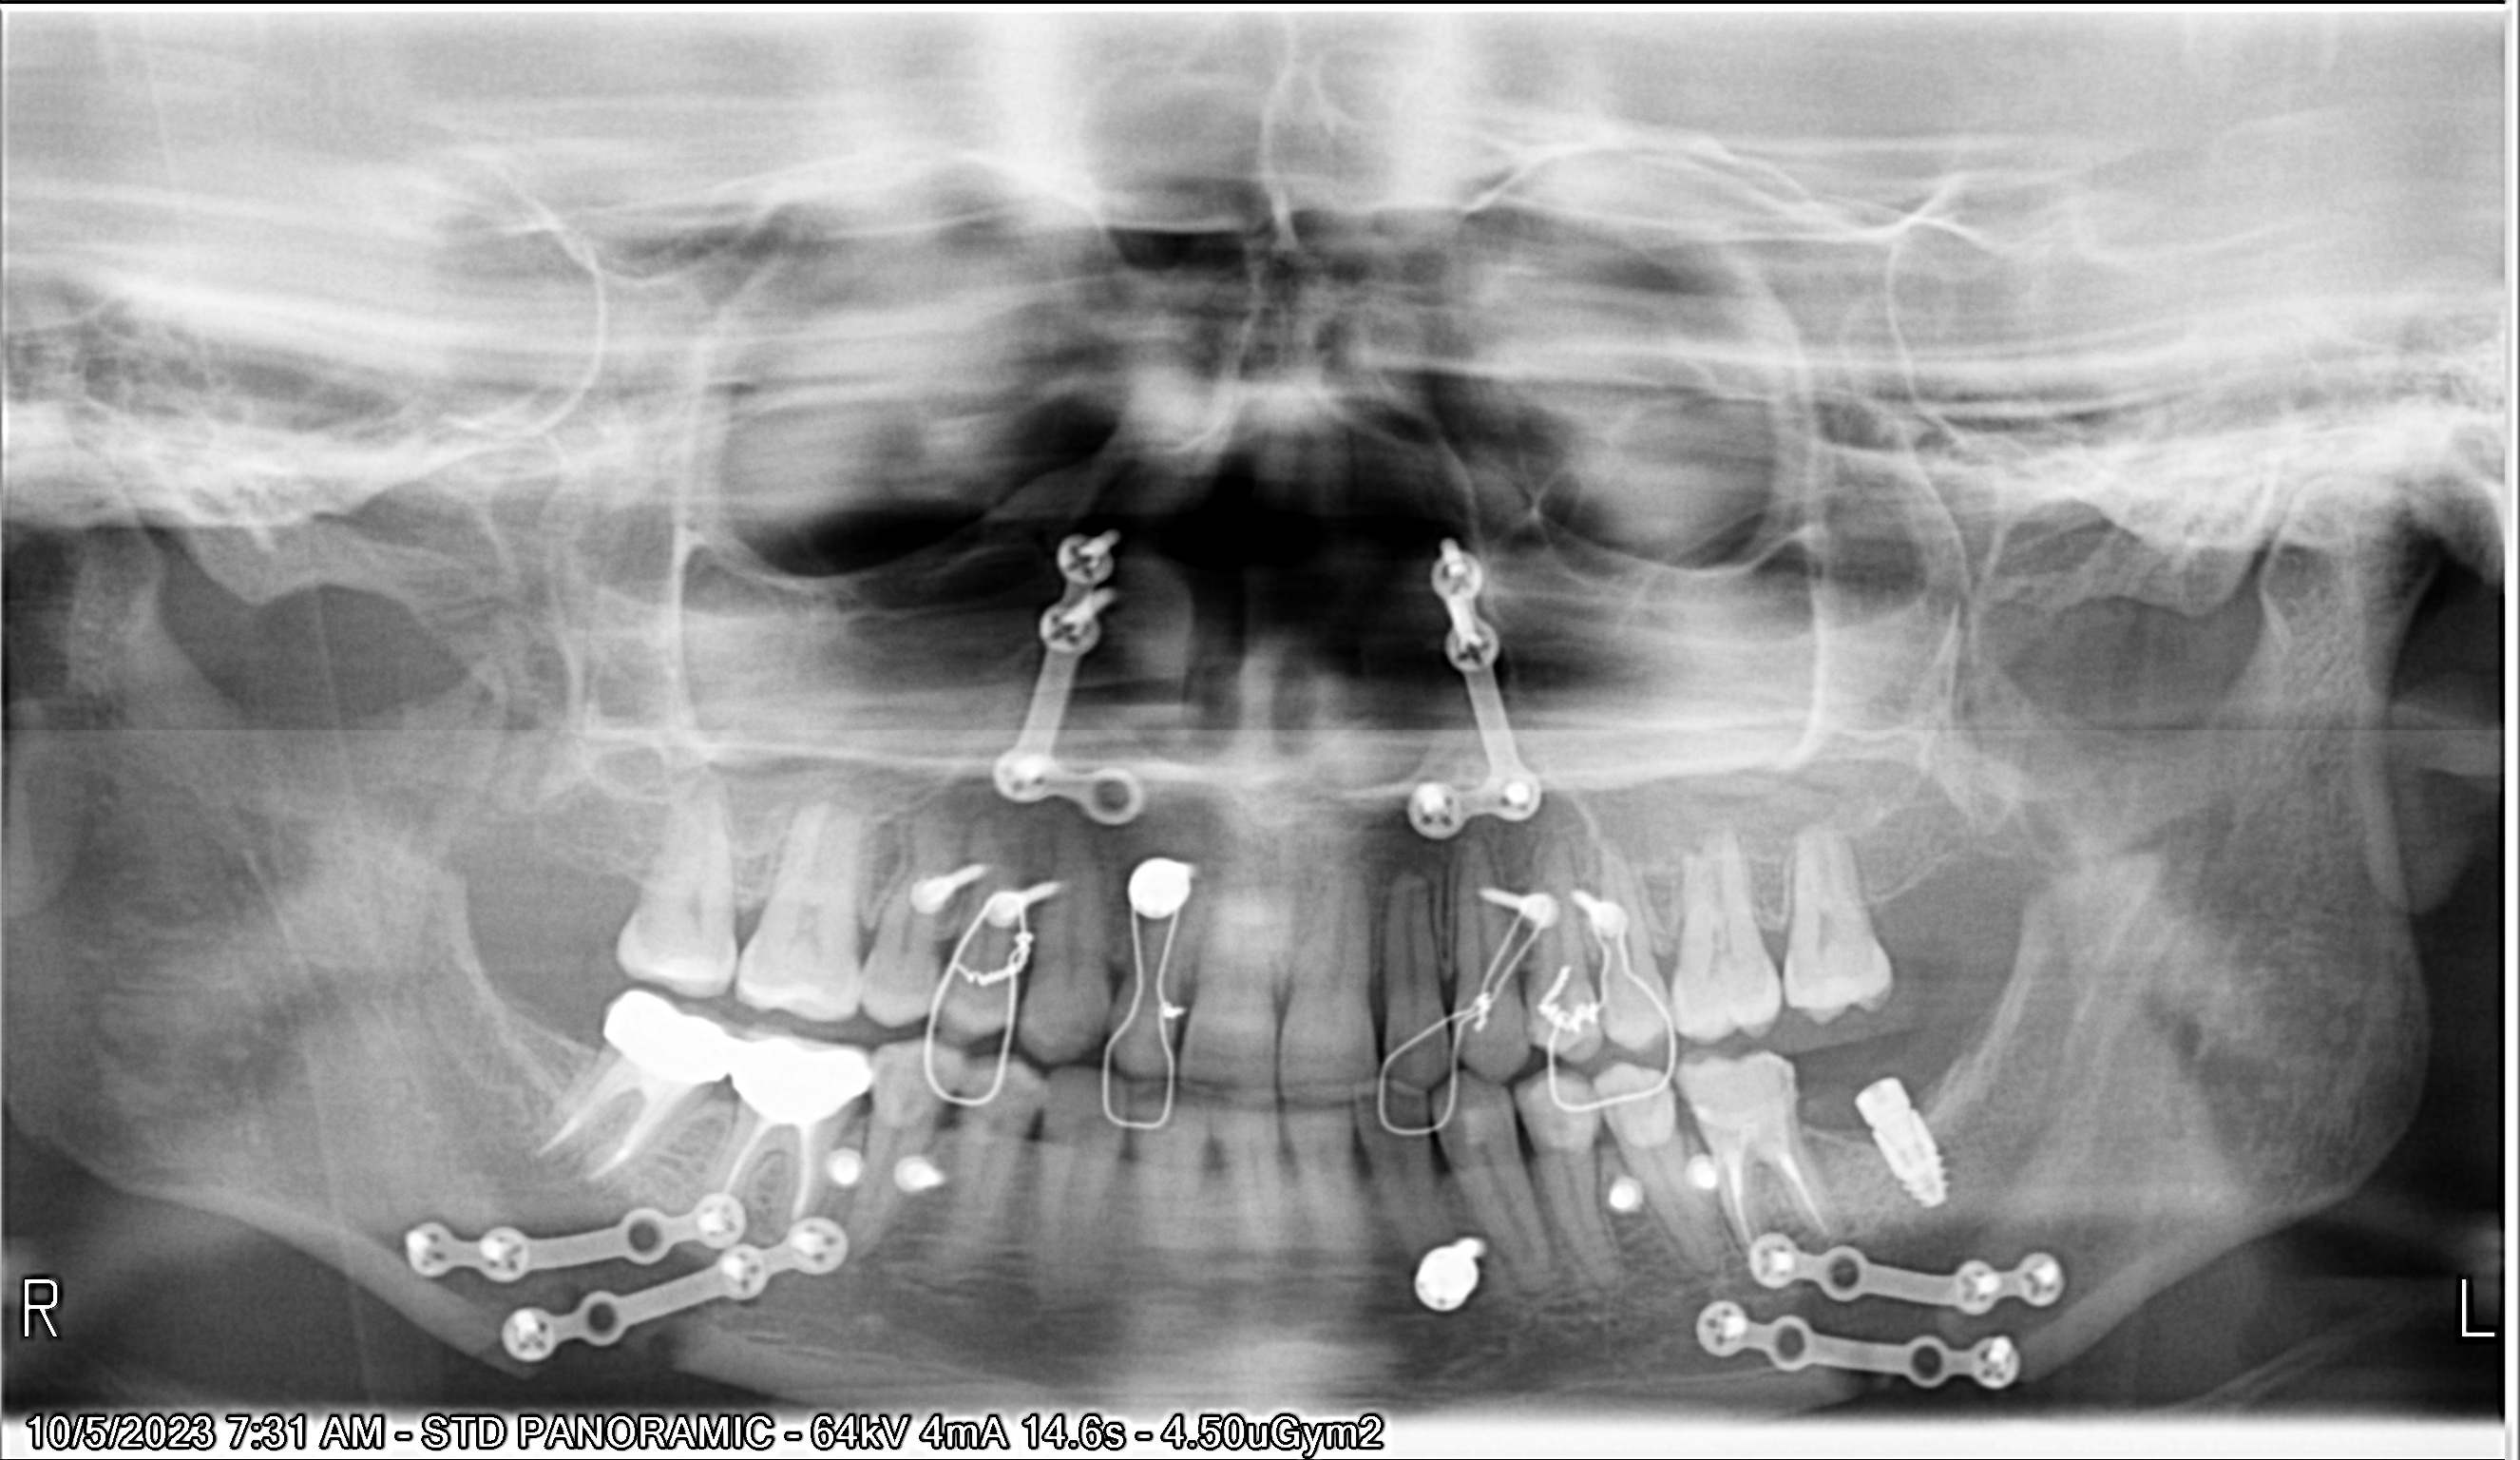BON: (1756, 923, 1798, 972)
END: (528, 1053, 691, 1194), (1699, 1114, 1831, 1246), (710, 1109, 816, 1241)
IMP: (1844, 1062, 1976, 1215)
PRR: (589, 972, 736, 1097), (729, 1022, 886, 1133)
SRD: (498, 1217, 861, 1384), (988, 525, 1169, 831), (1384, 530, 1551, 845), (354, 1178, 747, 1297), (1688, 1291, 2039, 1389), (1740, 1225, 2068, 1314), (971, 848, 1079, 961), (1551, 860, 1664, 963), (1103, 853, 1216, 933), (1461, 866, 1561, 954), (1405, 1225, 1499, 1319), (905, 846, 992, 926), (882, 1145, 962, 1213), (1591, 1156, 1650, 1224), (1678, 1138, 1728, 1203), (816, 1142, 874, 1192)
